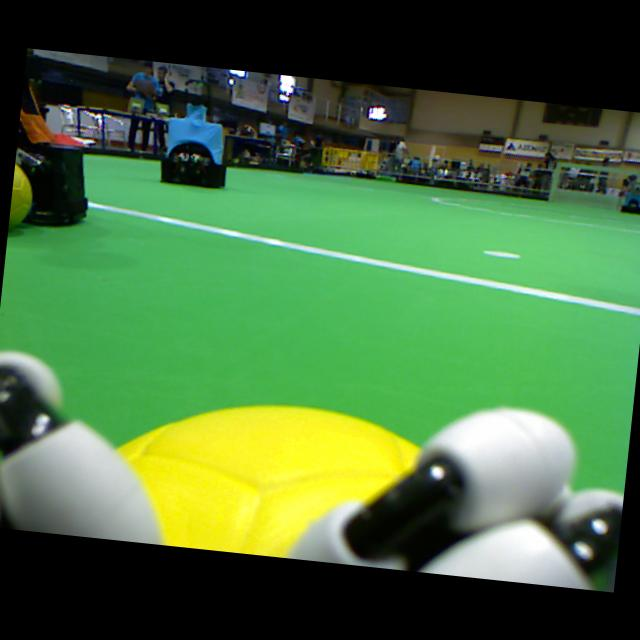ball: (115, 408, 419, 555), (10, 165, 32, 228)
goal: (546, 161, 560, 202)
robot: (15, 60, 87, 229)
